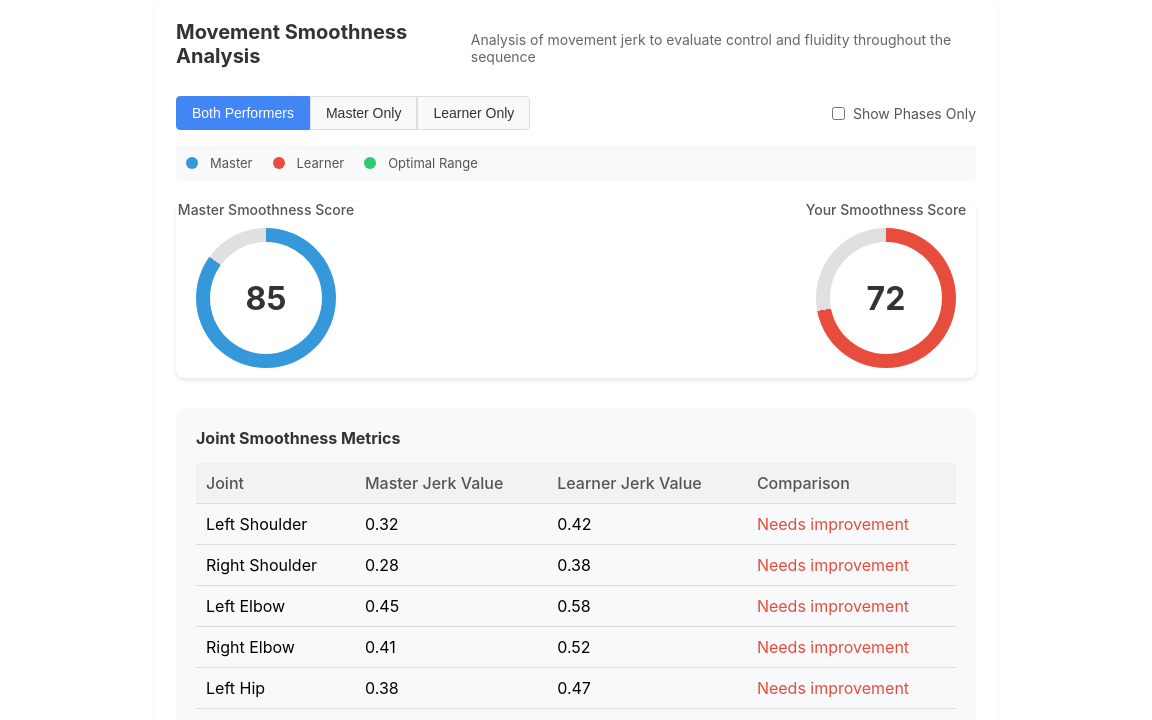
Test: SmoothnessChart Component › Display Mode Controls › learner only mode hides master gauge
Click the button "Learner Only": (474, 113) [417,96,530,130]
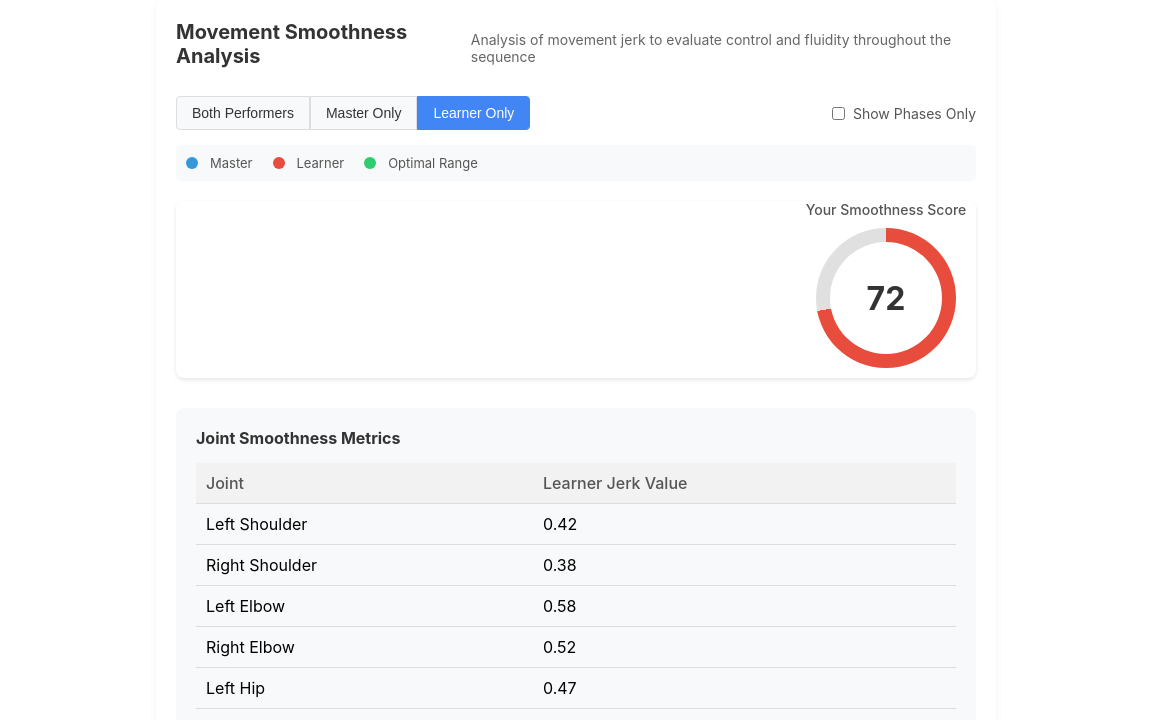
Check: the heading "Your Smoothness Score" is shown, box [806,201,966,218]
Check: the heading "Master Smoothness Score" is gone
